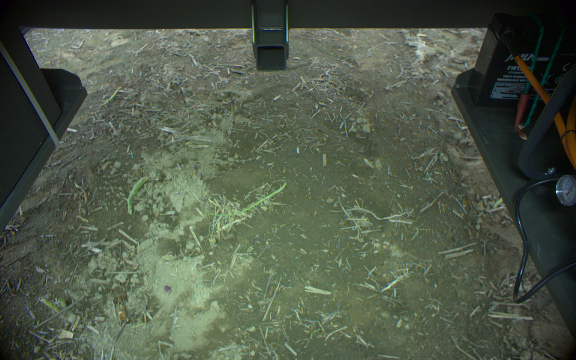aspa: (205, 181, 290, 220), (126, 175, 152, 214), (36, 296, 58, 313), (225, 96, 236, 125)
